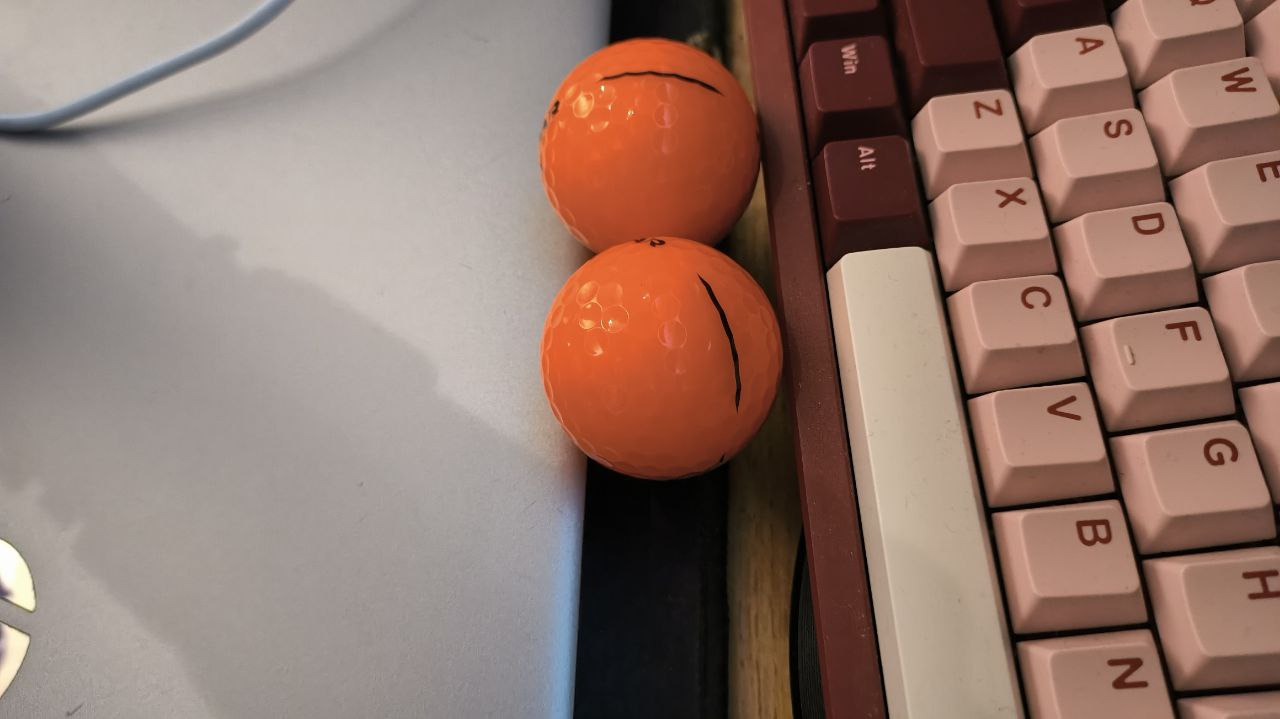orange_ball: (541, 235, 782, 481), (539, 39, 762, 255)
